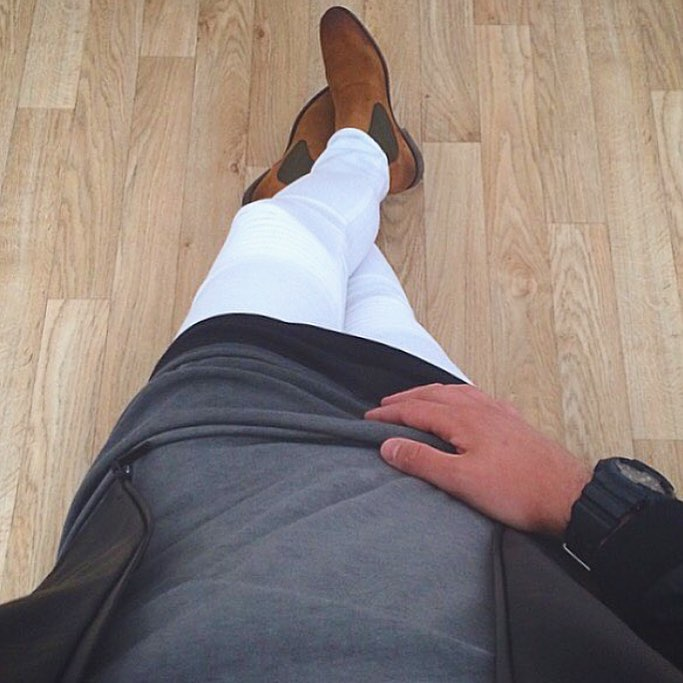sneaker: (292, 1, 431, 207), (216, 73, 374, 220)
